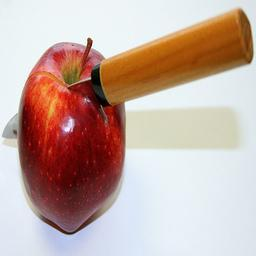apple: (12, 43, 126, 236)
